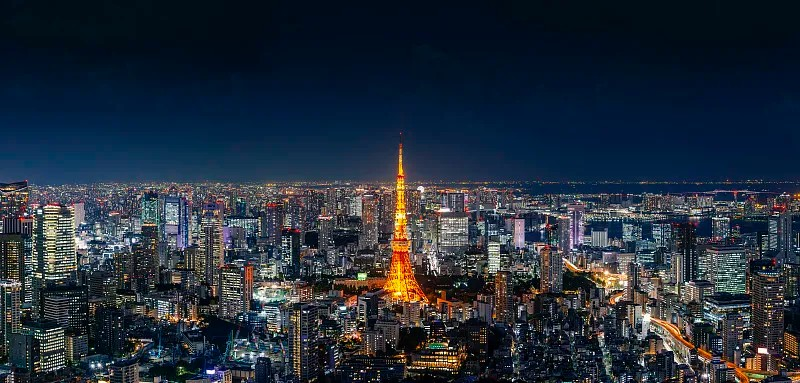Tokyo: (380, 127, 428, 306)
